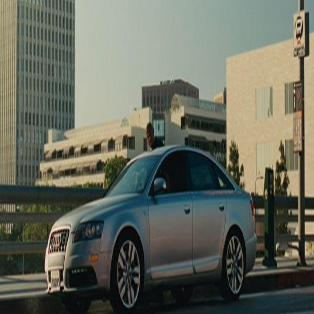Auto: (43, 146, 257, 311)
